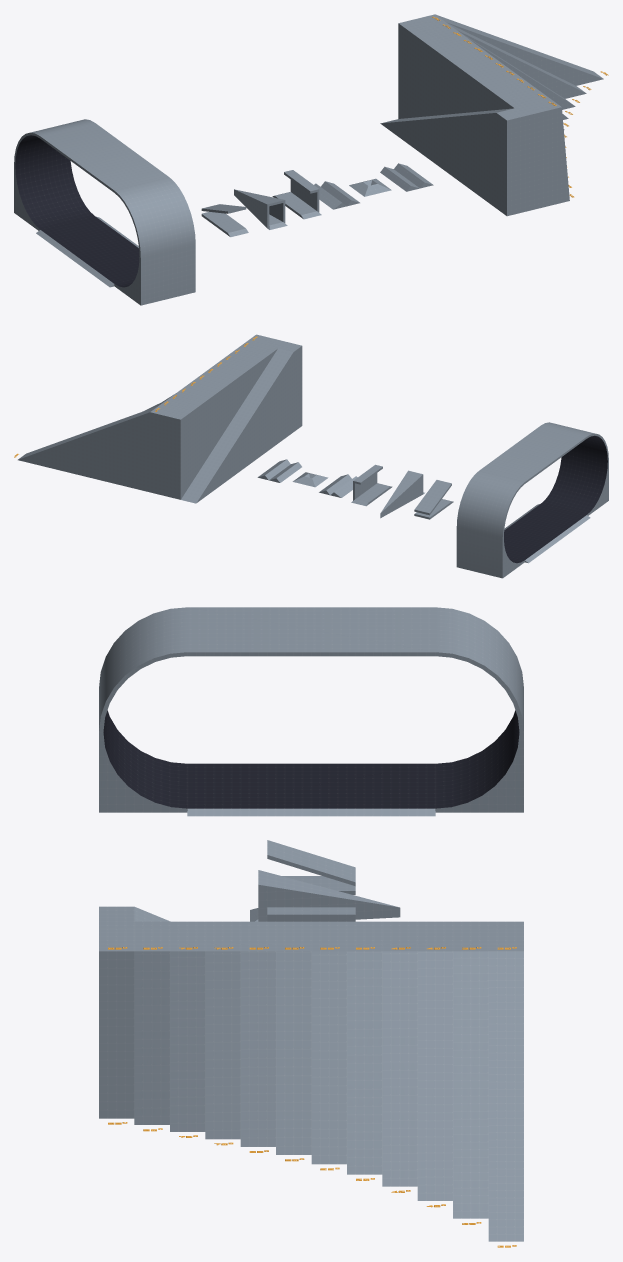
File: Geometry_NeoCharacterControllerDemo.FBX
3 renders of one model, top to bottom at view 1: azimuth 30°, elevation 25°; view 2: azimuth 150°, elevation 25°; view 3: azimuth 270°, elevation 25°, orthographic. The views are drawn at different scales.
Parts seen in each view (by area): view 1: NeoCharacterControllerDemo_Ramps, NeoCharacterControllerDemo_Loop, NeoCharacterControllerDemo_Constraints01, NeoCharacterControllerDemo_Constraints02, NeoCharacterControllerDemo_Constraints03, NeoCharacterControllerDemo_GroundWedges01, NeoCharacterControllerDemo_GroundWedges02, NeoCharacterControllerDemo_GroundWedges03; view 2: NeoCharacterControllerDemo_Ramps, NeoCharacterControllerDemo_Loop, NeoCharacterControllerDemo_Constraints02, NeoCharacterControllerDemo_Constraints01, NeoCharacterControllerDemo_Constraints03, NeoCharacterControllerDemo_GroundWedges01, NeoCharacterControllerDemo_GroundWedges02; view 3: NeoCharacterControllerDemo_Ramps, NeoCharacterControllerDemo_Loop, NeoCharacterControllerDemo_Constraints02, NeoCharacterControllerDemo_Constraints03, NeoCharacterControllerDemo_Constraints01, NeoCharacterControllerDemo_RampLabels.
Boxes of the visible parts, bbox=[...] form: NeoCharacterControllerDemo_Ramps: bbox=[380, 14, 603, 216]; NeoCharacterControllerDemo_Loop: bbox=[14, 119, 195, 305]; NeoCharacterControllerDemo_Constraints01: bbox=[272, 170, 321, 219]; NeoCharacterControllerDemo_Constraints02: bbox=[234, 189, 287, 229]; NeoCharacterControllerDemo_Constraints03: bbox=[201, 204, 248, 237]; NeoCharacterControllerDemo_GroundWedges01: bbox=[380, 163, 433, 191]; NeoCharacterControllerDemo_GroundWedges02: bbox=[314, 181, 359, 209]; NeoCharacterControllerDemo_GroundWedges03: bbox=[349, 178, 391, 196]; NeoCharacterControllerDemo_Ramps: bbox=[18, 334, 302, 503]; NeoCharacterControllerDemo_Loop: bbox=[456, 422, 608, 578]; NeoCharacterControllerDemo_Constraints02: bbox=[380, 470, 424, 518]; NeoCharacterControllerDemo_Constraints01: bbox=[351, 464, 392, 506]; NeoCharacterControllerDemo_Constraints03: bbox=[414, 480, 453, 519]; NeoCharacterControllerDemo_GroundWedges01: bbox=[257, 459, 301, 482]; NeoCharacterControllerDemo_GroundWedges02: bbox=[319, 474, 357, 497]; NeoCharacterControllerDemo_Ramps: bbox=[99, 906, 523, 1241]; NeoCharacterControllerDemo_Loop: bbox=[99, 607, 523, 816]; NeoCharacterControllerDemo_Constraints02: bbox=[250, 870, 400, 921]; NeoCharacterControllerDemo_Constraints03: bbox=[267, 840, 355, 894]; NeoCharacterControllerDemo_Constraints01: bbox=[267, 907, 355, 921]; NeoCharacterControllerDemo_RampLabels: bbox=[108, 947, 516, 1247].
Bounding box in the file's own units: 12928 × 4800 × 2005.
